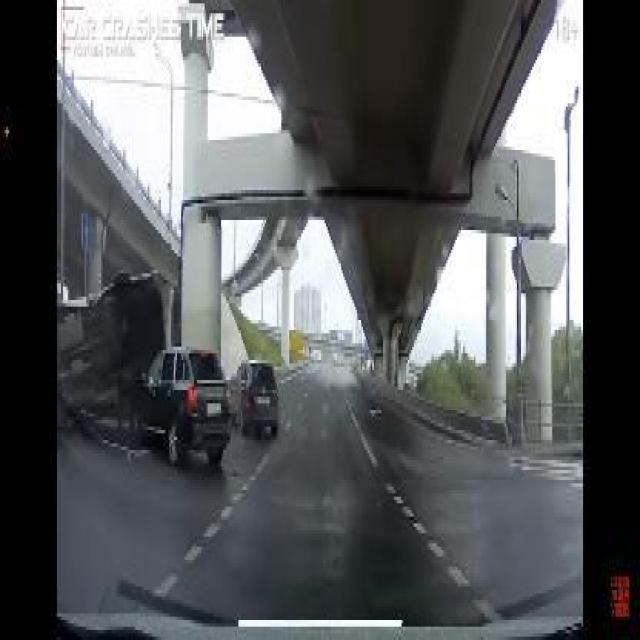accident: (40, 250, 240, 477)
